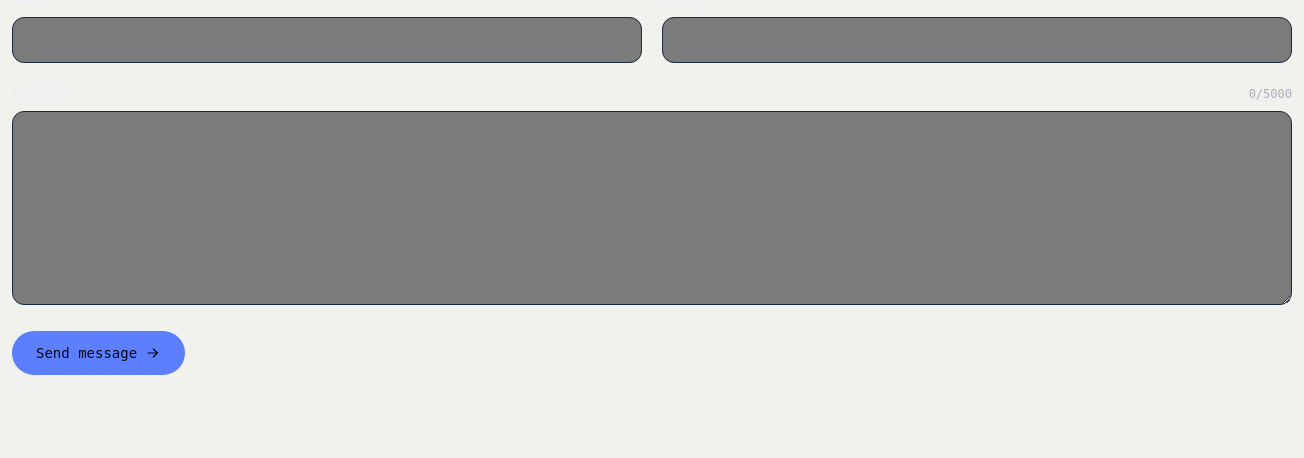
it: ContactForm › shows a rate-limit message and disables submit while a Retry-After countdown runs
This screenshot has width=1304, height=458.
Type "Ada Lovelace" into the field labelled "Name".
click(327, 40); type("Ada Lovelace")  # box [12,17,642,63]
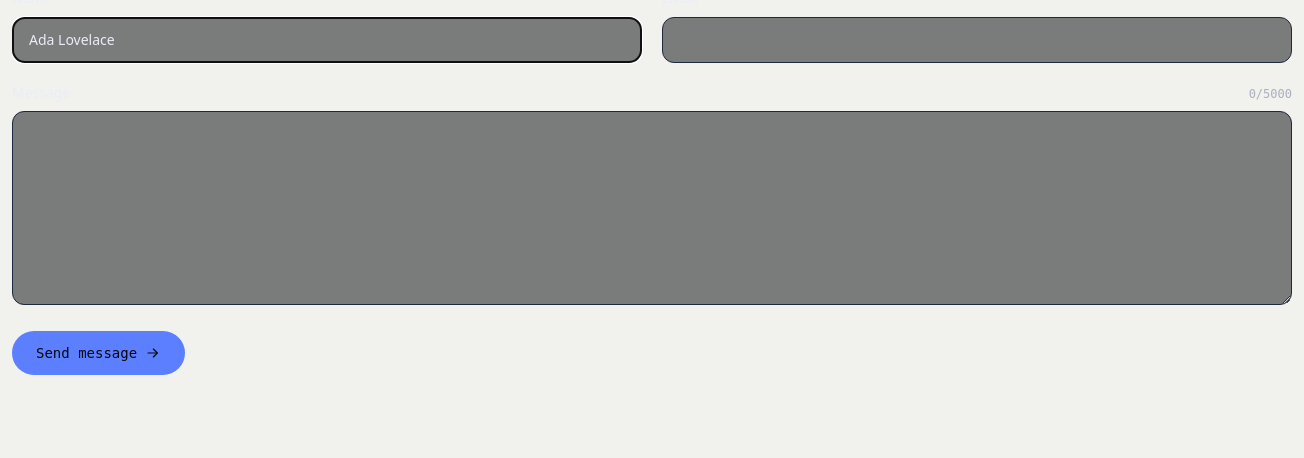
Type "ada@example.com" into the field labelled "Email".
click(977, 40); type("ada@example.com")  # box [662,17,1292,63]
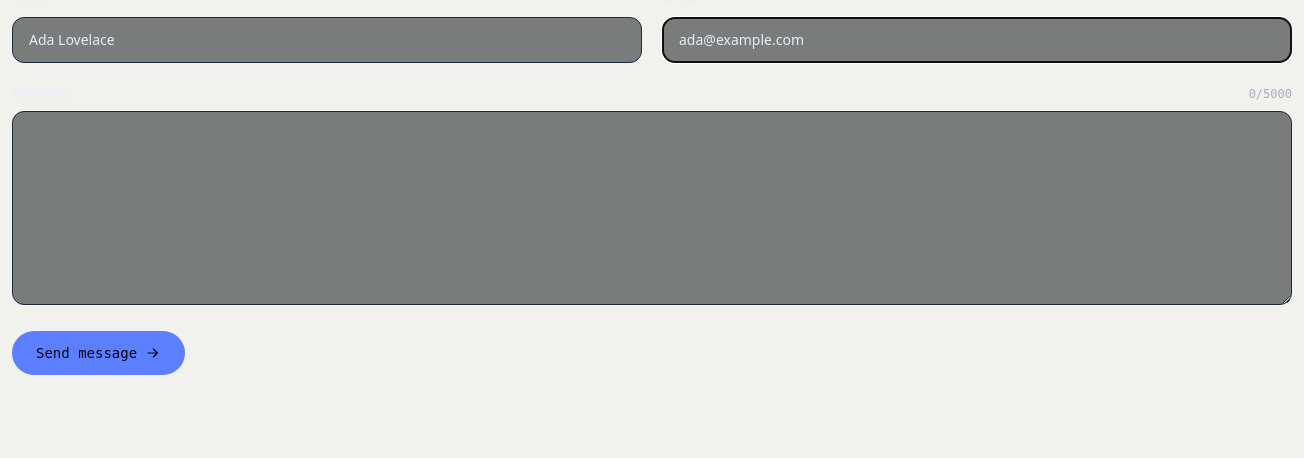
Type "Hello there!" into the text box labelled "Message".
click(652, 208); type("Hello there!")  # box [12,111,1292,305]
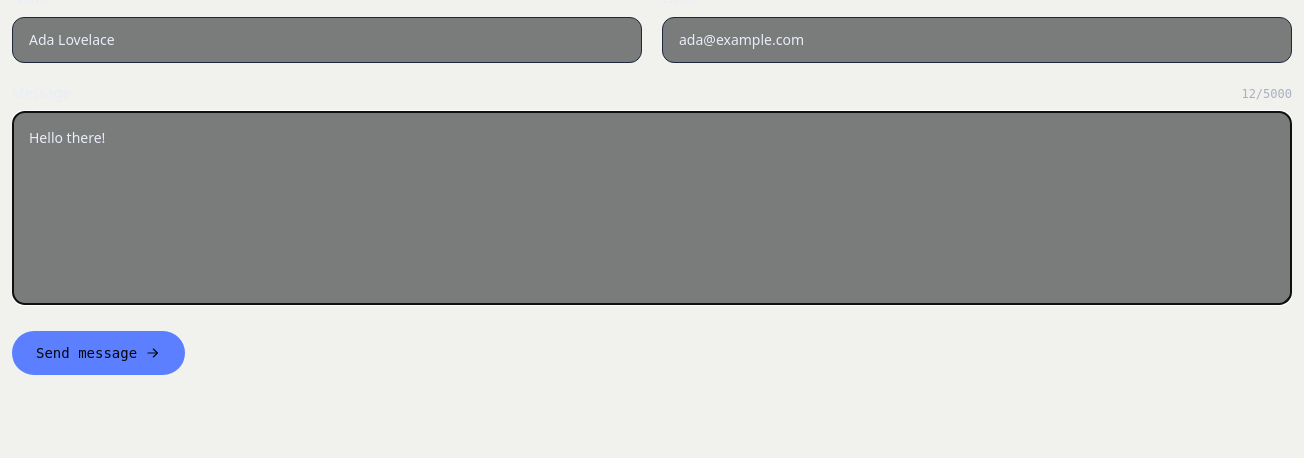
Click the button "Send message".
click(99, 353)  # box [12,331,185,375]
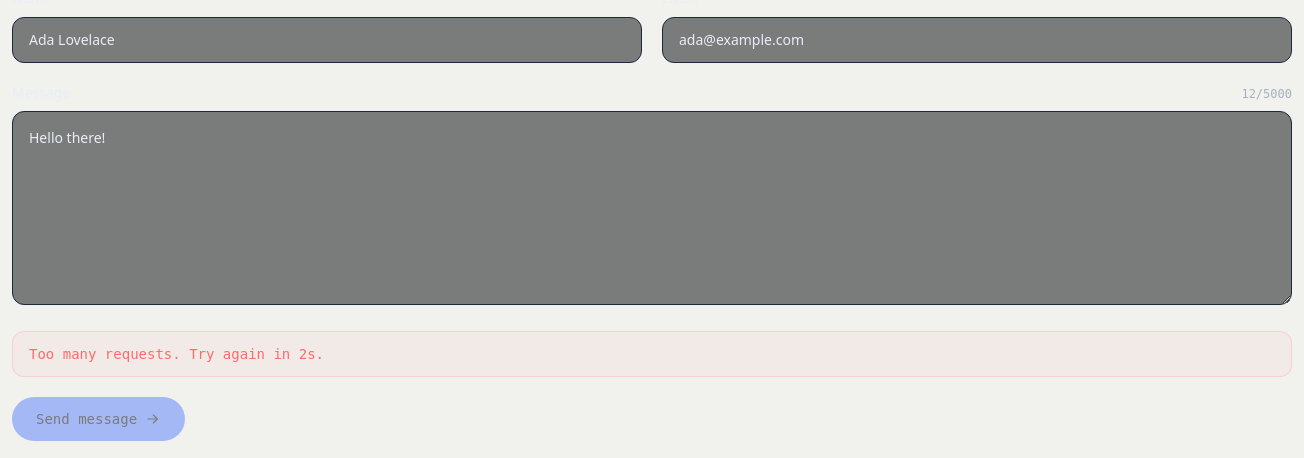
Check: the text "Too many requests. Try again in 2s." is shown, box [12,331,1292,377]
Check: the button "Send message" is disabled, box [12,397,185,441]
